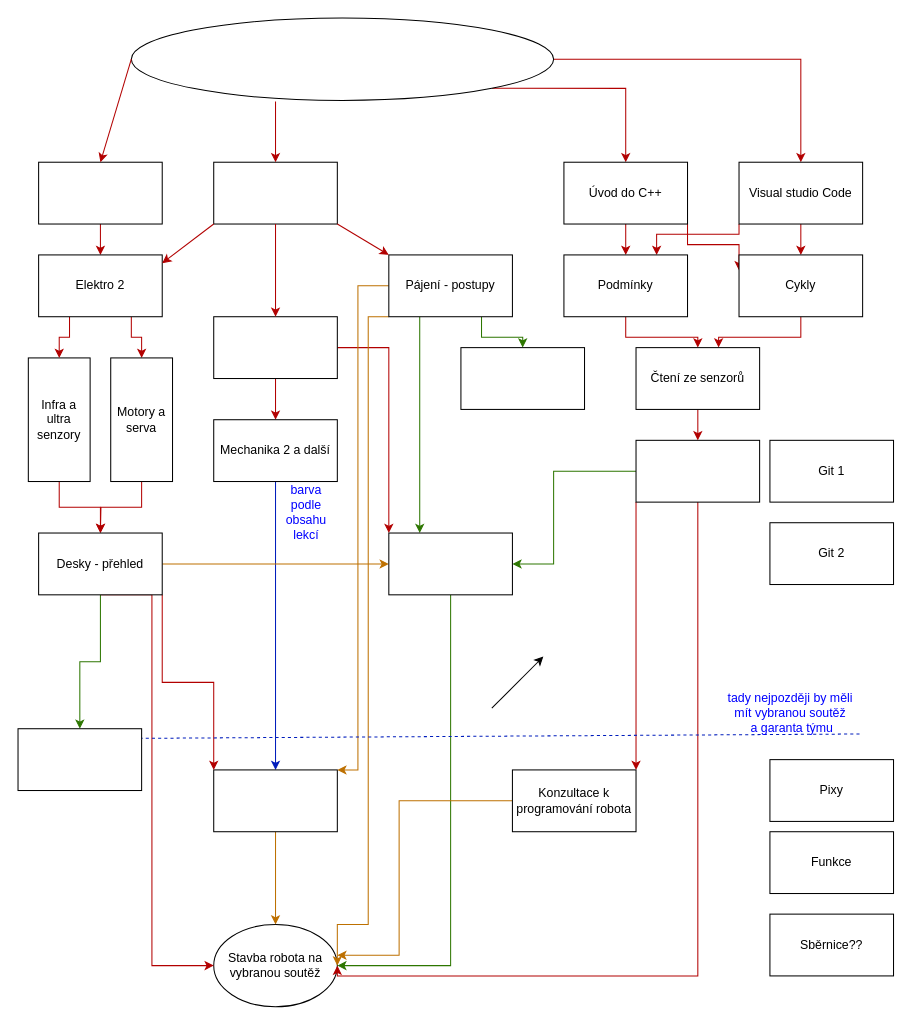
This 912x1025 diagram has some shape labels left out. Here are the shapes that lost their labels. From the top down, the centre of each, then its label:
At point 342,58: "Úvodní hodina".
At point 100,192: "Elektro 1".
At point 275,192: "BOZP dílna, elektro a pájení".
At point 275,347: "Mechanika 1".
At point 522,378: "Pájení - cvičení".
At point 697,470: "Ovládání motorů a serv".
At point 450,563: "Konzultace k výběru soutěže".
At point 79,759: "Osciloskop 1".
At point 275,800: "Konzultace ke stavbě robota".
